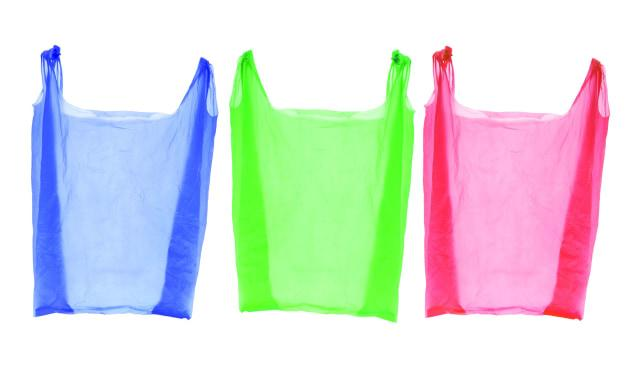LDPE: (29, 45, 219, 319), (424, 45, 611, 321), (231, 48, 415, 322)
